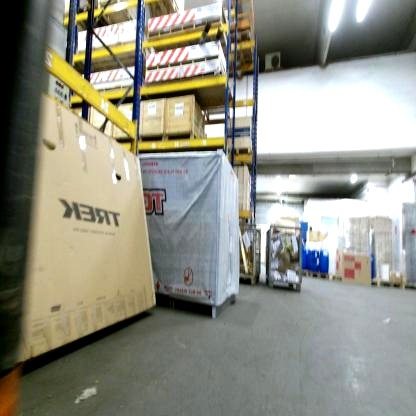pallets: (301, 268, 416, 294), (143, 18, 226, 44), (142, 52, 223, 76), (108, 131, 205, 143)
